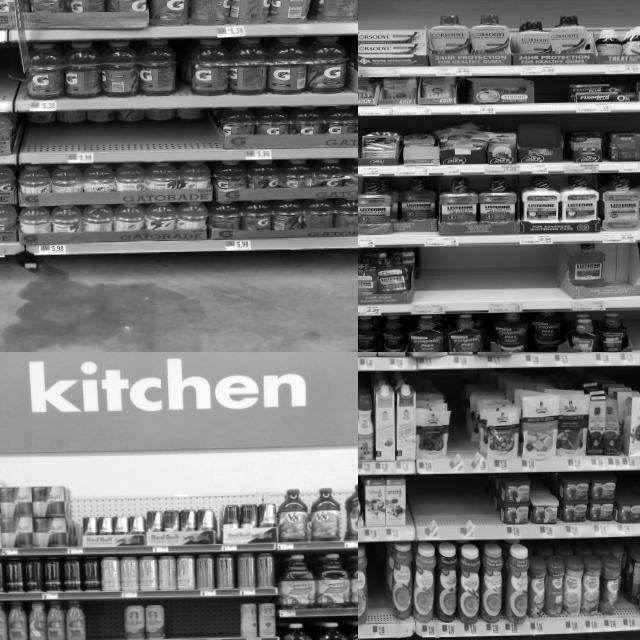100% O.O.S: (484, 248, 556, 311), (422, 248, 482, 313), (407, 475, 449, 539), (450, 474, 490, 538), (450, 378, 468, 472), (368, 544, 386, 637), (534, 76, 568, 110)
100- O.O.S: (164, 599, 199, 640), (85, 602, 121, 640)
